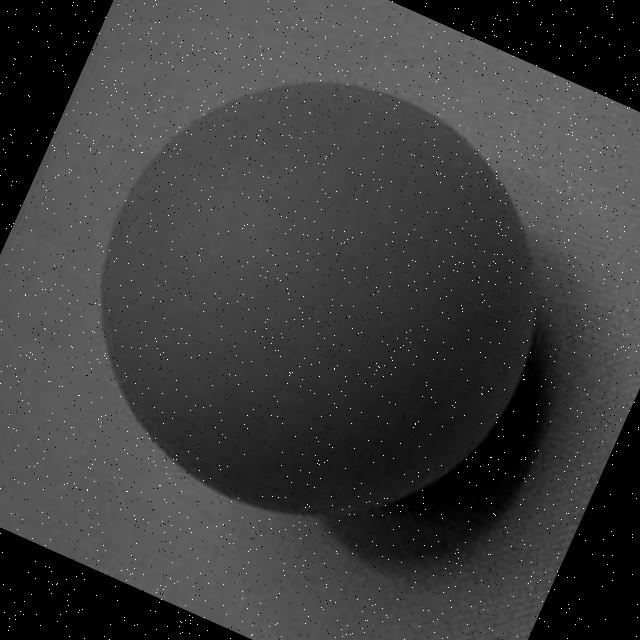ping-pong-ball: (24, 3, 613, 592)
